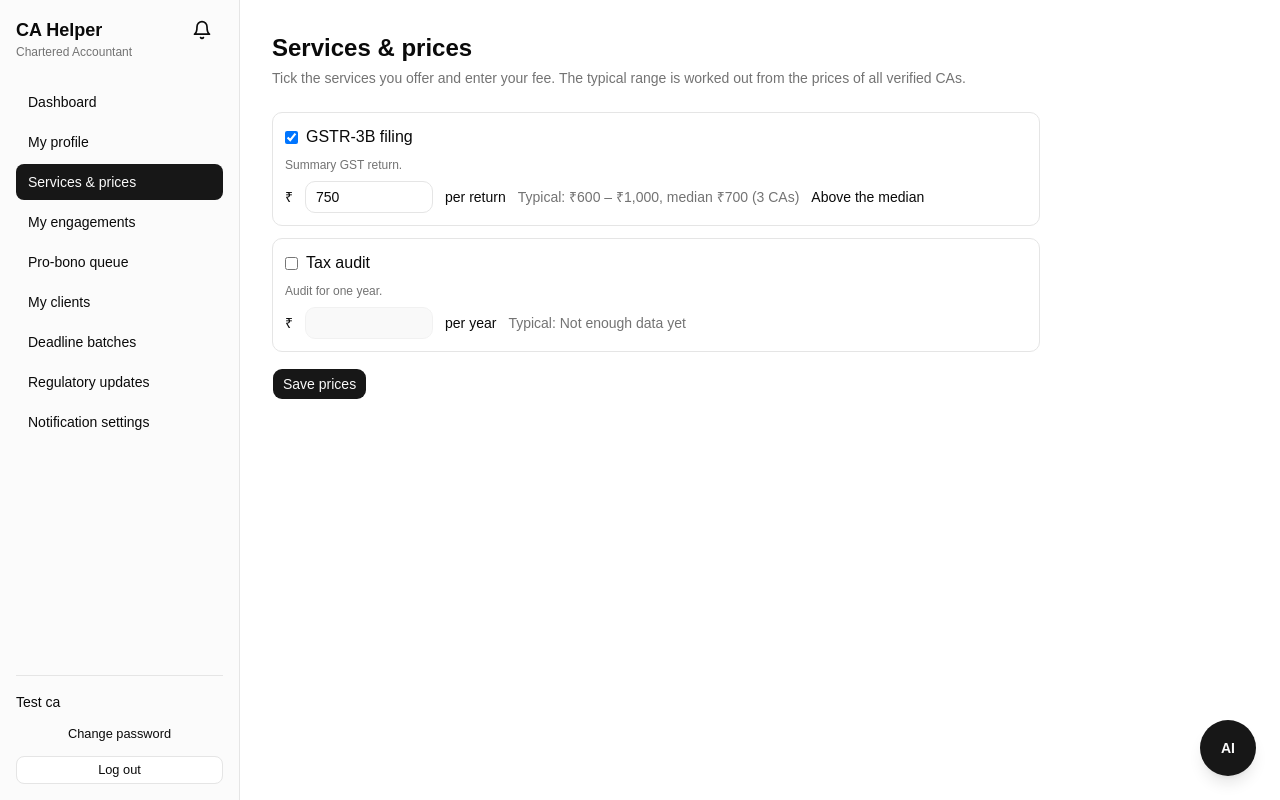
CA services & prices page › saves the ticked services with their prices
Step 1. Click the checkbox labelled "Tax audit" → click(292, 263), box [285,256,298,270]
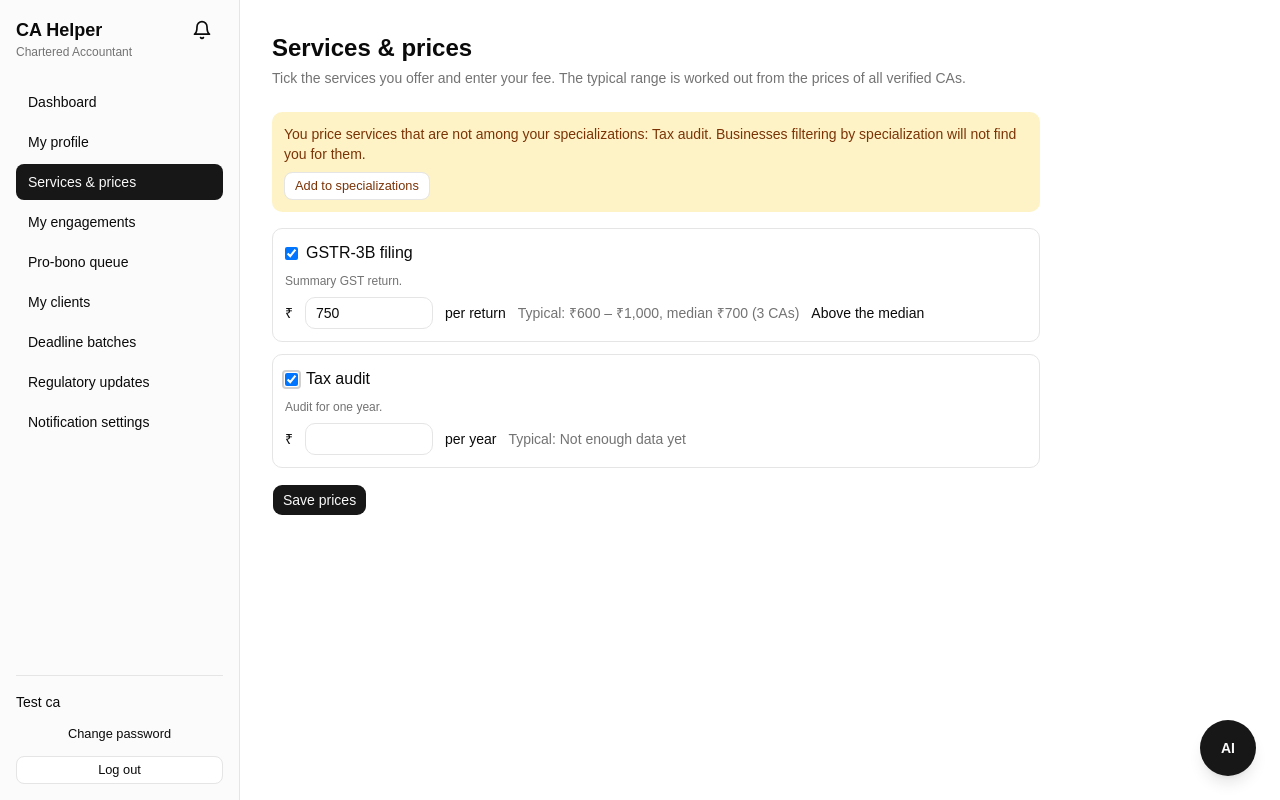
Step 2. Type "20000" into the field named "Price for Tax audit" → (369, 439), box [305,423,433,455]
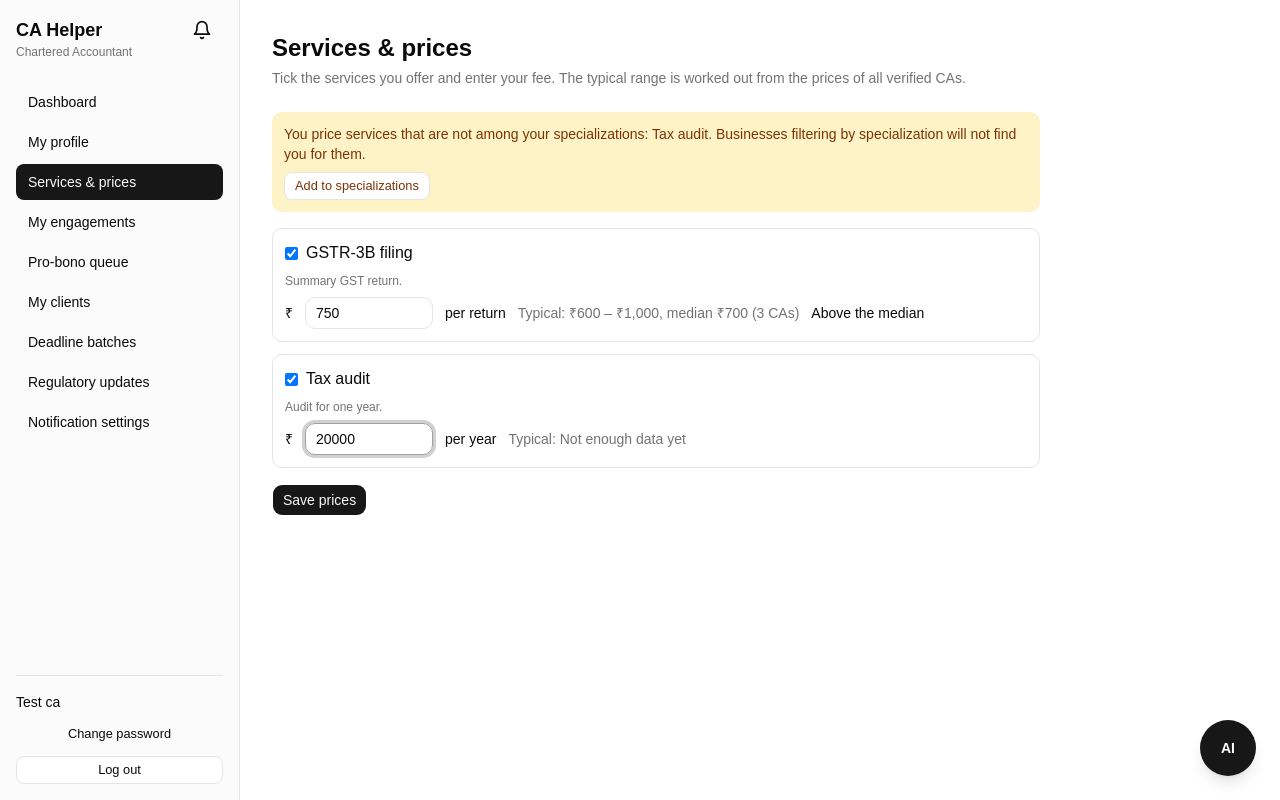
Step 3. Click the button "Save prices" → click(320, 500), box [272,484,367,516]
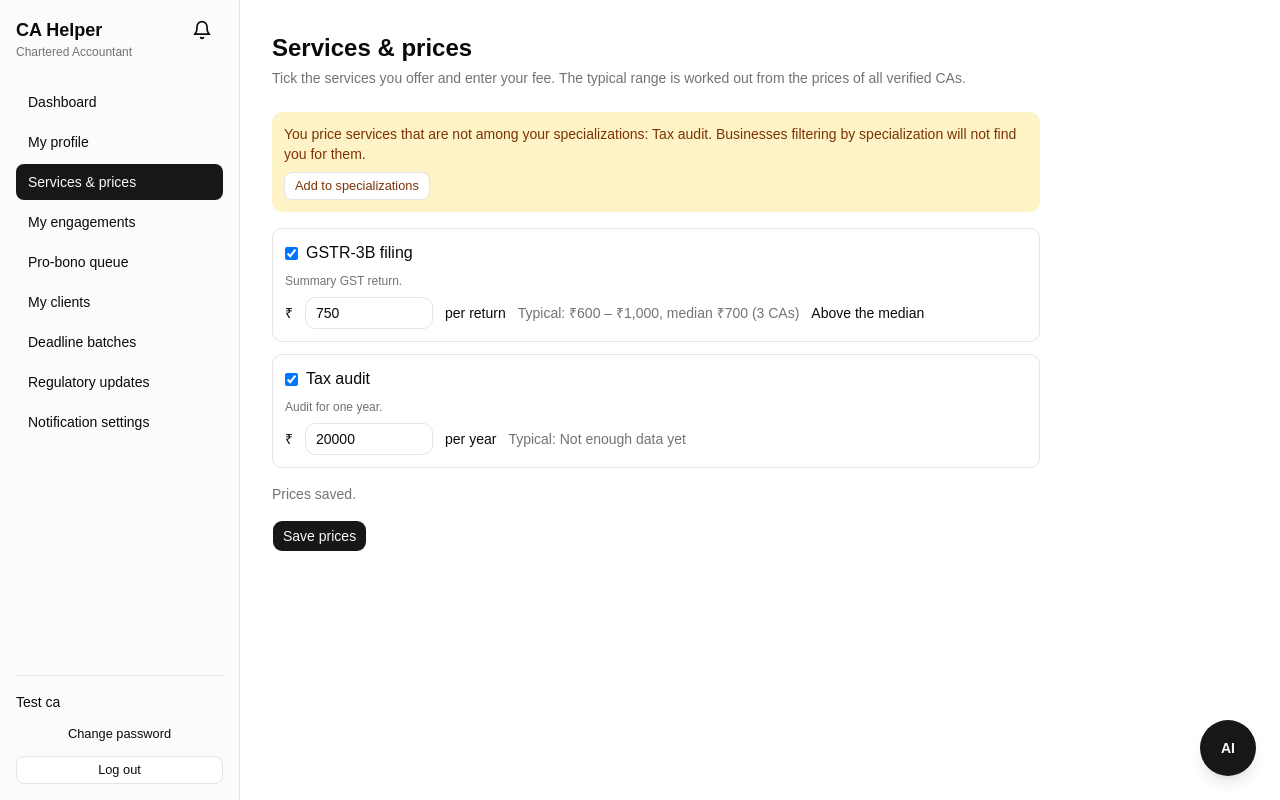
Now the message reads "Prices saved.", box [272,486,356,502]
